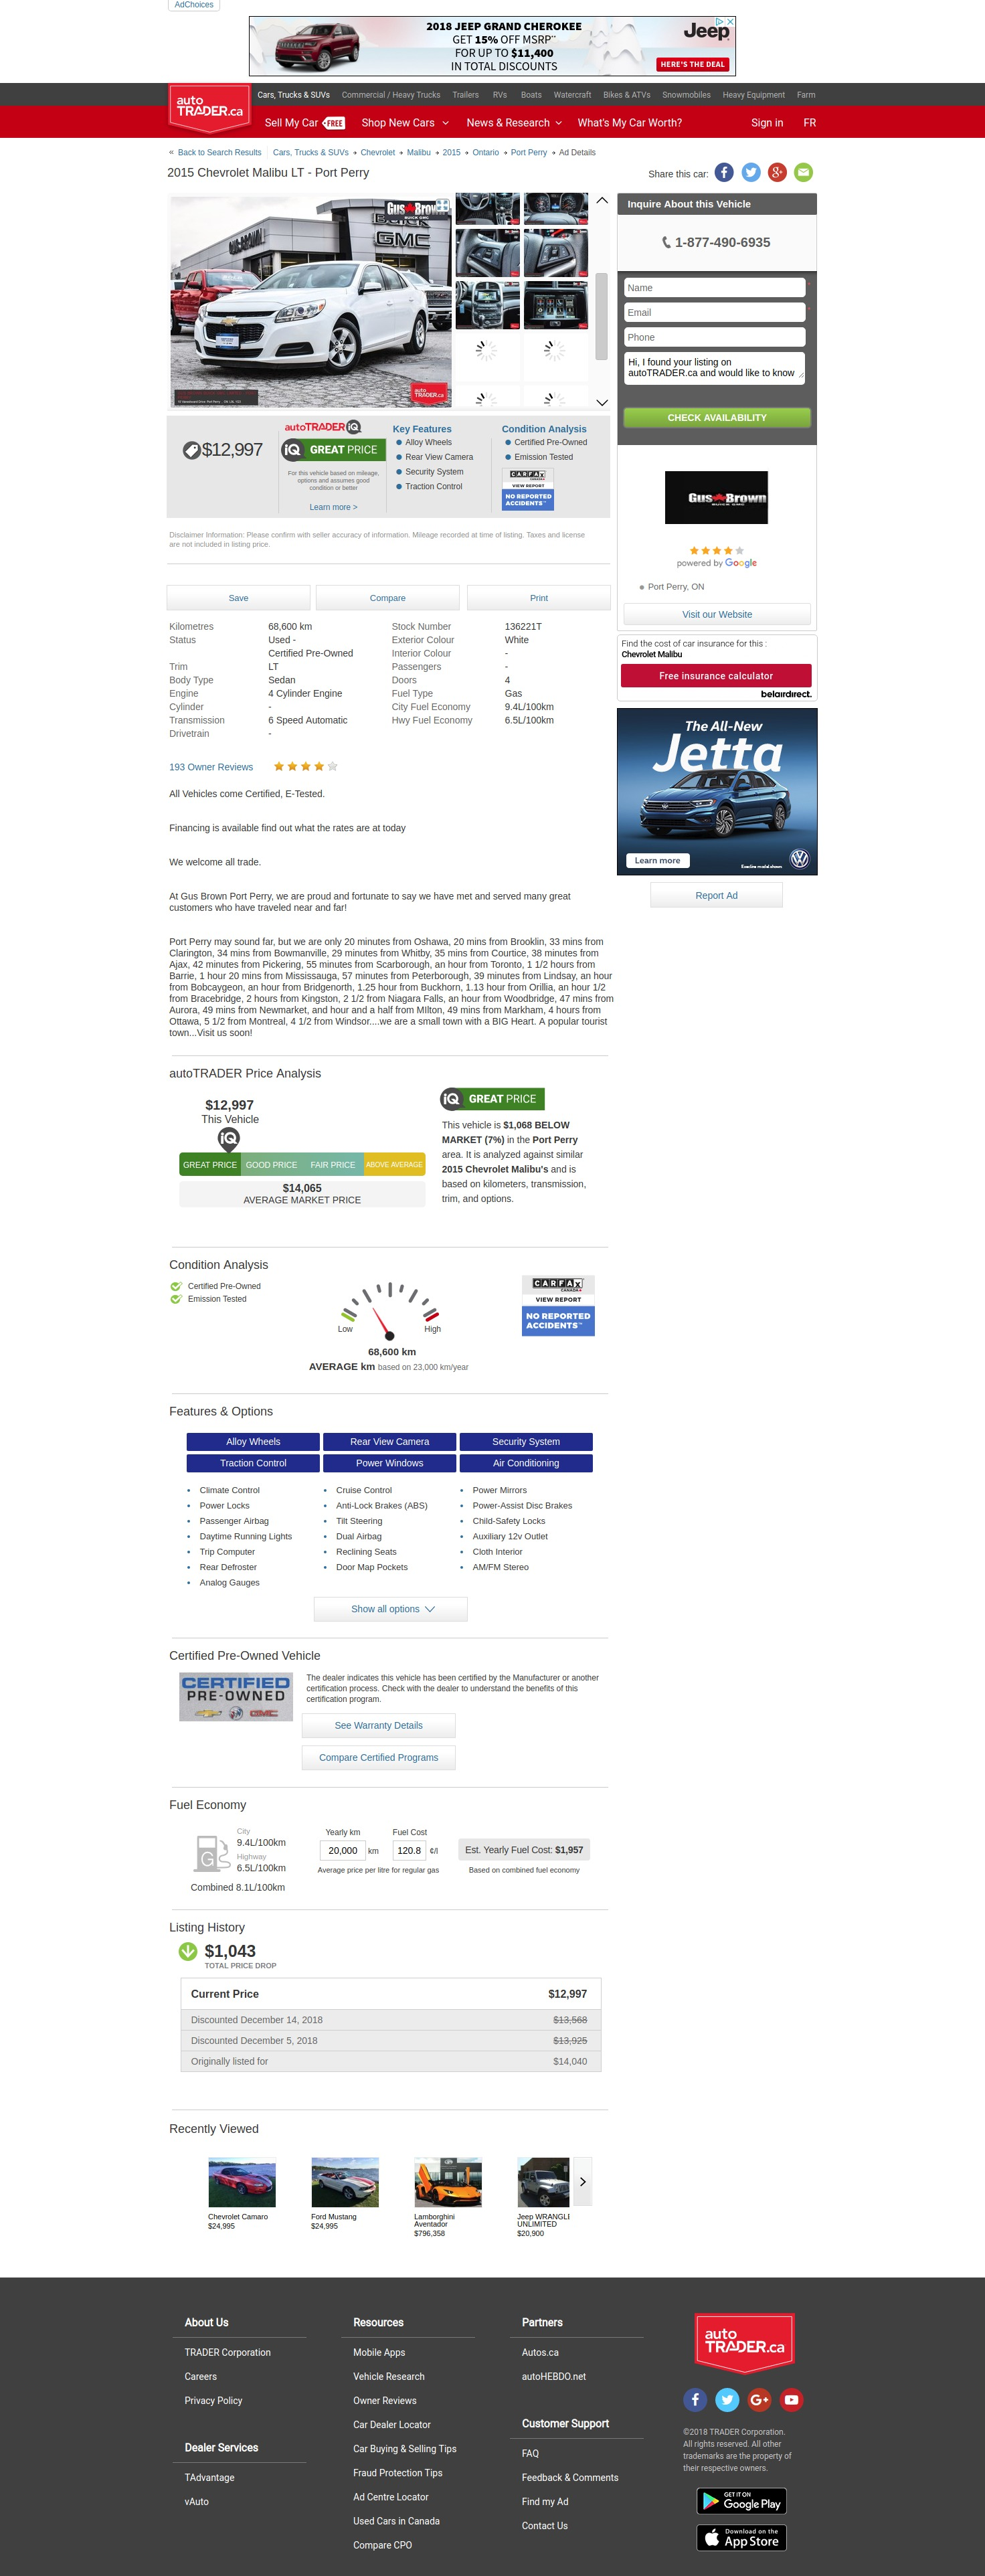car: (596, 399, 609, 407)
